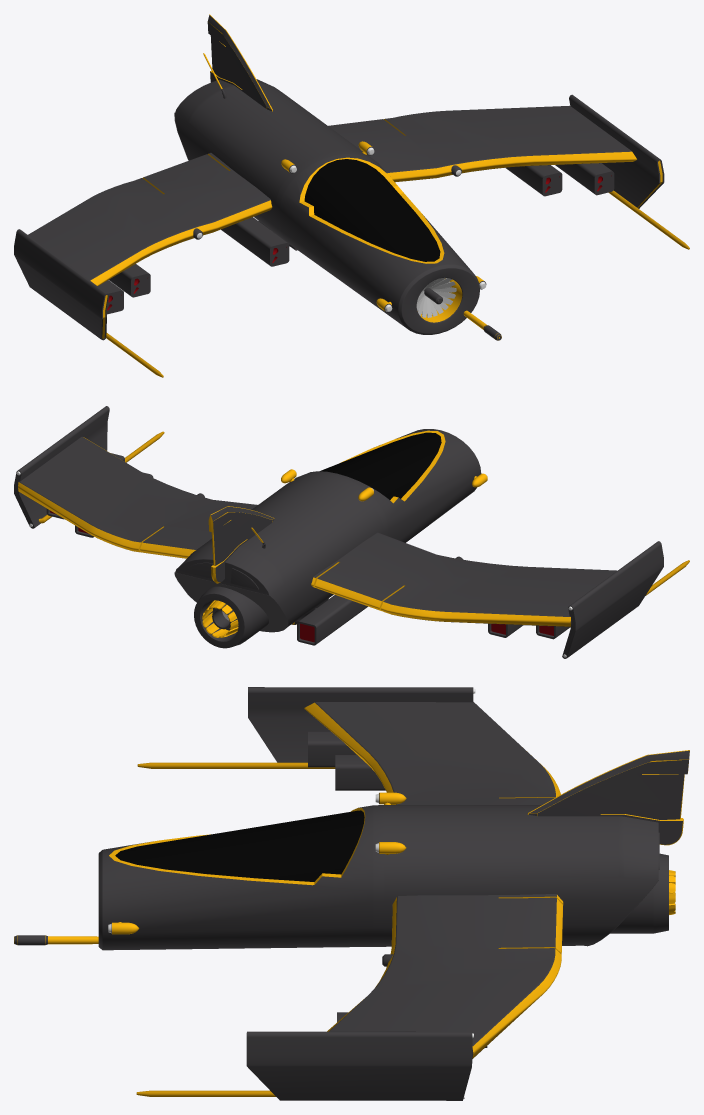
The model's file is shipRetourn.fbx.
The picture shows the model from 3 angles, top to bottom: view 1: azimuth 30°, elevation 25°; view 2: azimuth 150°, elevation 25°; view 3: azimuth 270°, elevation 25°; orthographic projection. The views are drawn at different scales.
Parts seen in each view (by area): view 1: Плоскость, Цилиндр.001, Цилиндр, Куб.001, Плоскость.002, Цилиндр.004, Цилиндр.005; view 2: Плоскость, Цилиндр.001, Цилиндр, Цилиндр.007, Куб.001, Плоскость.002, Цилиндр.005; view 3: Плоскость, Цилиндр.001, Цилиндр, Плоскость.002, Куб.001, Цилиндр.007, Цилиндр.005, Цилиндр.002.
Part boxes in pixels (box(x1,y1,x2,y2)): Плоскость: box(14, 94, 689, 377); Цилиндр.001: box(174, 79, 479, 334); Цилиндр: box(304, 159, 440, 261); Куб.001: box(98, 163, 614, 314); Плоскость.002: box(207, 14, 272, 111); Цилиндр.004: box(416, 277, 456, 317); Цилиндр.005: box(281, 141, 486, 312); Плоскость: box(14, 406, 689, 658); Цилиндр.001: box(174, 429, 481, 632); Цилиндр: box(320, 432, 441, 499); Цилиндр.007: box(194, 586, 268, 648); Куб.001: box(46, 453, 570, 645); Плоскость.002: box(208, 506, 274, 583); Цилиндр.005: box(16, 469, 572, 657); Плоскость: box(136, 687, 563, 1100); Цилиндр.001: box(98, 805, 659, 950); Цилиндр: box(115, 810, 364, 881); Плоскость.002: box(527, 750, 689, 845); Куб.001: box(308, 731, 487, 1047); Цилиндр.007: box(610, 853, 675, 933); Цилиндр.005: box(108, 688, 475, 1098); Цилиндр.002: box(14, 935, 98, 945).
Size of the model in its own units: 1420 by 412 by 1156.
